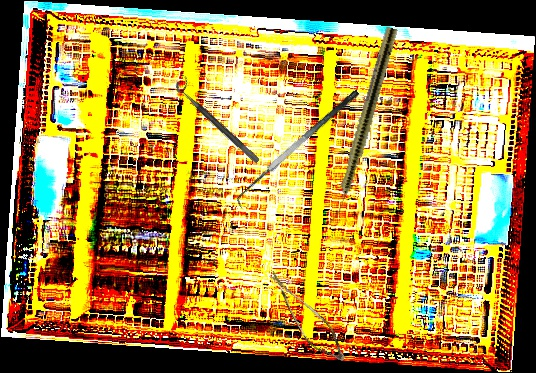Fixation Ring: (172, 74, 267, 165)
Handpiece: (327, 25, 399, 227)
Micro Scissor: (249, 269, 360, 367)
Spatula Surgical: (229, 88, 369, 211)
